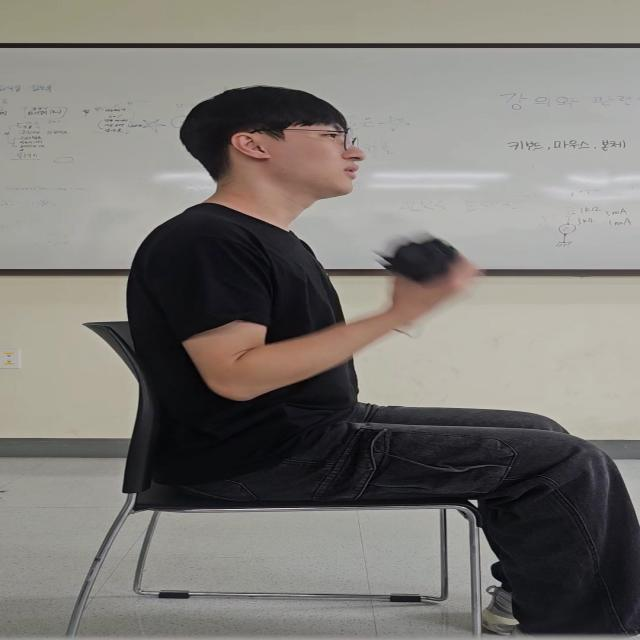curl: (136, 226, 488, 403)
